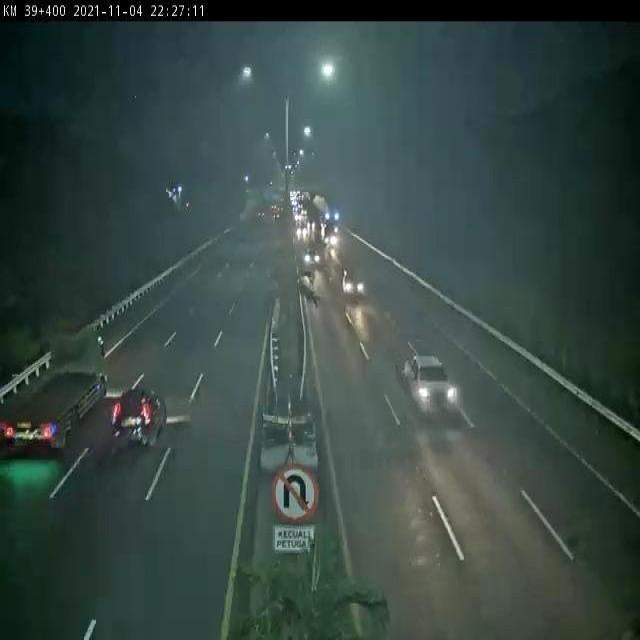car: (397, 348, 458, 413), (111, 383, 167, 448), (341, 266, 366, 298)
truck-m-: (0, 325, 110, 451)
